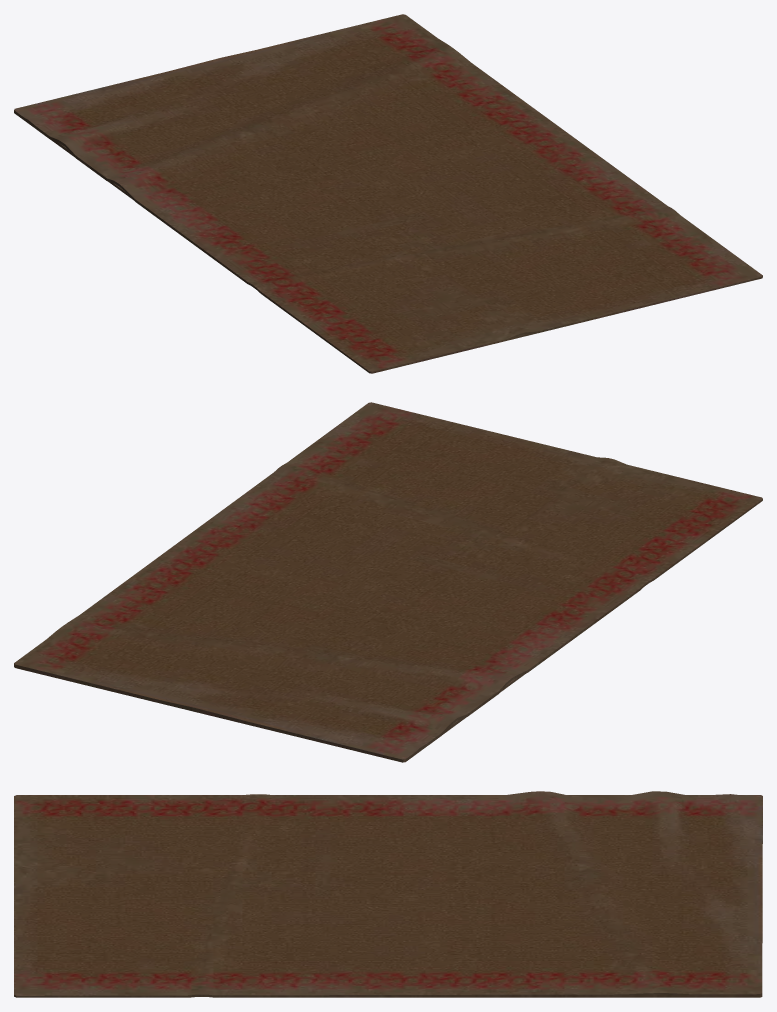
File: RugA.glb
The picture shows the model from 3 angles, top to bottom: view 1: azimuth 30°, elevation 25°; view 2: azimuth 150°, elevation 25°; view 3: azimuth 270°, elevation 25°; orthographic projection. The views are drawn at different scales.
Visible parts, largest first — view 1: RugA; view 2: RugA; view 3: RugA.
Part boxes in pixels (box(x1,y1,x2,y2)): RugA: box(14, 14, 762, 373); RugA: box(14, 402, 762, 762); RugA: box(14, 791, 762, 997).
Size of the model in its own units: 2.16 by 0.0358 by 3.41.
Materials: 1 (1 with a texture image).
